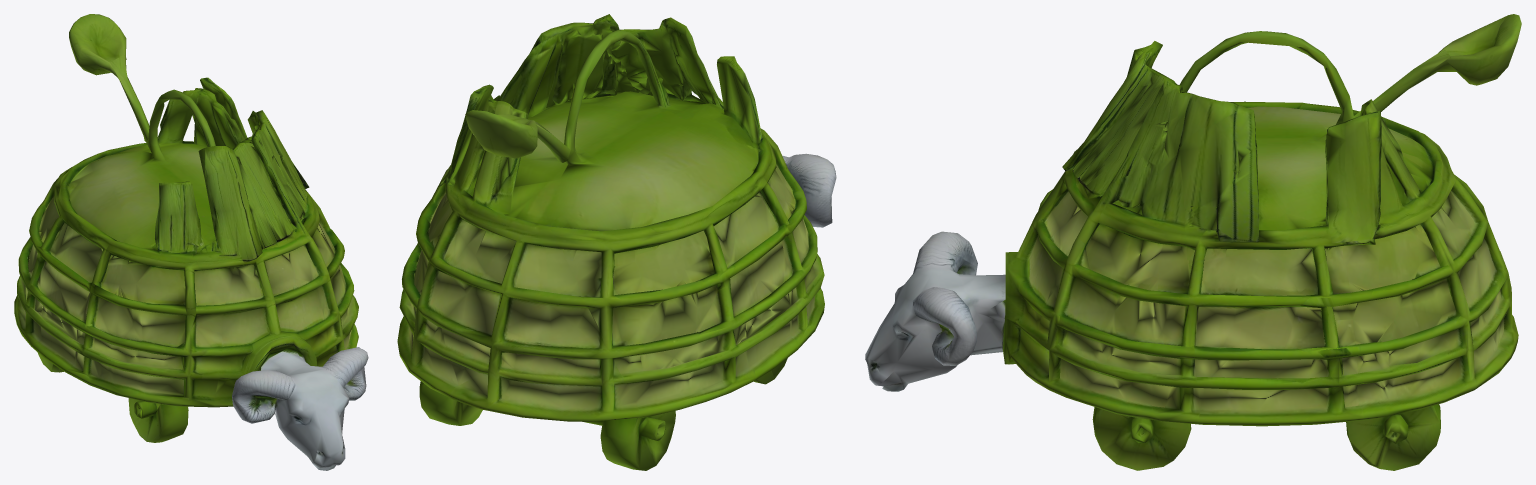
3 renders of one model, left to right at view 1: azimuth 30°, elevation 25°; view 2: azimuth 150°, elevation 25°; view 3: azimuth 270°, elevation 25°, orthographic. The views are drawn at different scales.
Parts seen in each view (by area): view 1: tripo_node_e0f87a98-9fb4-4499-8e1a-2b61c6875a4e; view 2: tripo_node_e0f87a98-9fb4-4499-8e1a-2b61c6875a4e; view 3: tripo_node_e0f87a98-9fb4-4499-8e1a-2b61c6875a4e.
Boxes of the visible parts, x1,y1,x2,y2 form: tripo_node_e0f87a98-9fb4-4499-8e1a-2b61c6875a4e: (14, 14, 368, 470); tripo_node_e0f87a98-9fb4-4499-8e1a-2b61c6875a4e: (397, 14, 836, 470); tripo_node_e0f87a98-9fb4-4499-8e1a-2b61c6875a4e: (865, 14, 1521, 470).
Bounding box in the file's own units: 0.6344 × 0.6688 × 0.9993.
Materials: 1 (1 with a texture image).
